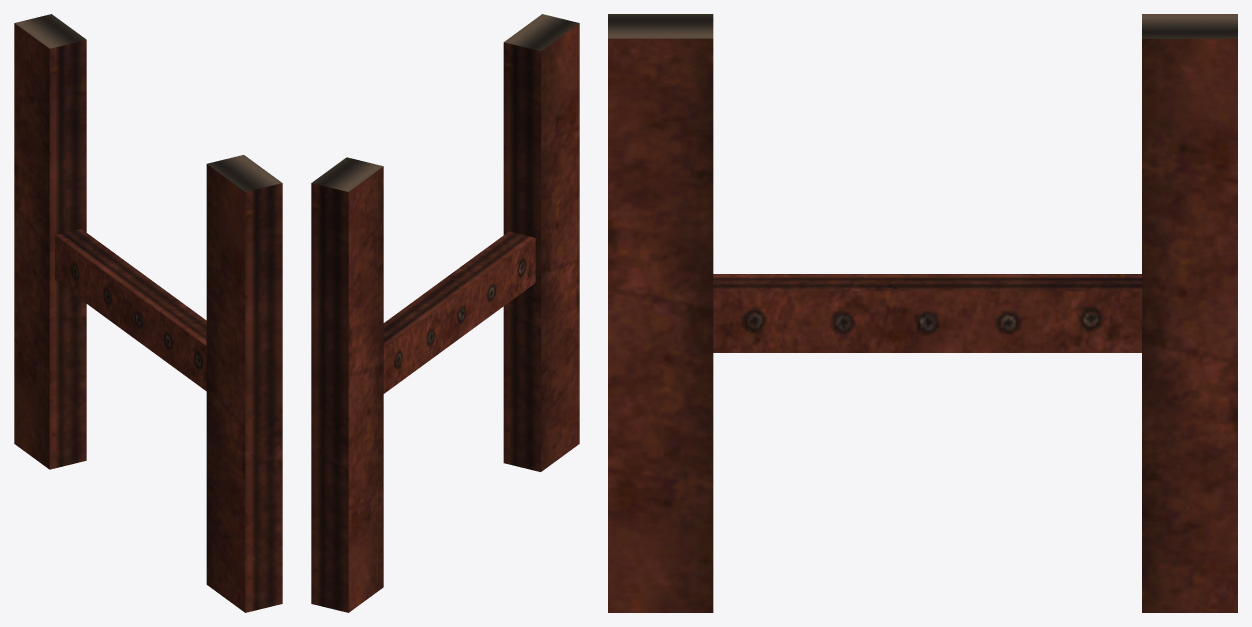
The model's file is cables_hanging_holder_extension.dae.
The picture shows the model from 3 angles, left to right: view 1: azimuth 30°, elevation 25°; view 2: azimuth 150°, elevation 25°; view 3: azimuth 270°, elevation 25°; orthographic projection. The views are drawn at different scales.
Visible parts, largest first — view 1: polySurface22; view 2: polySurface22; view 3: polySurface22.
Part boxes in pixels (<box>): polySurface22: <box>14,14,282,612</box>; polySurface22: <box>311,14,579,612</box>; polySurface22: <box>608,14,1237,612</box>.
Size of the model in its own units: 0.0923 by 1 by 0.9942.
